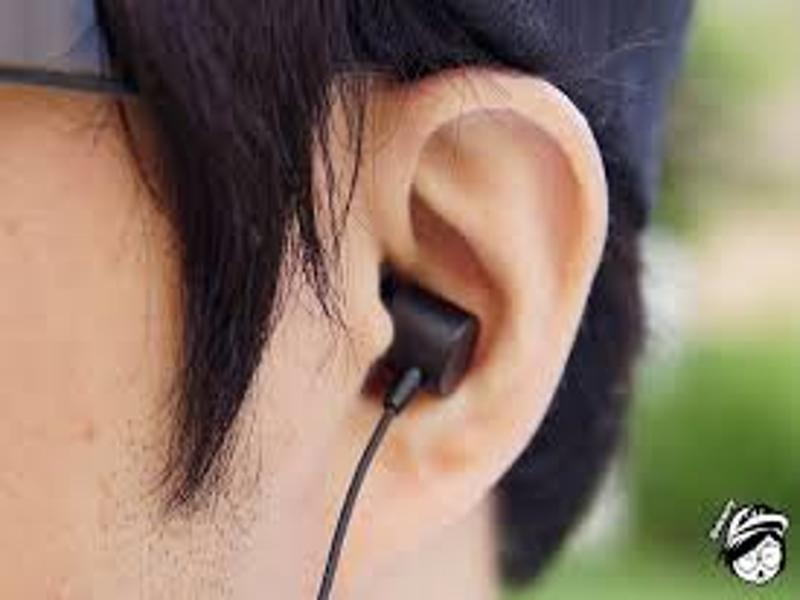headphone: (375, 272, 482, 414)
